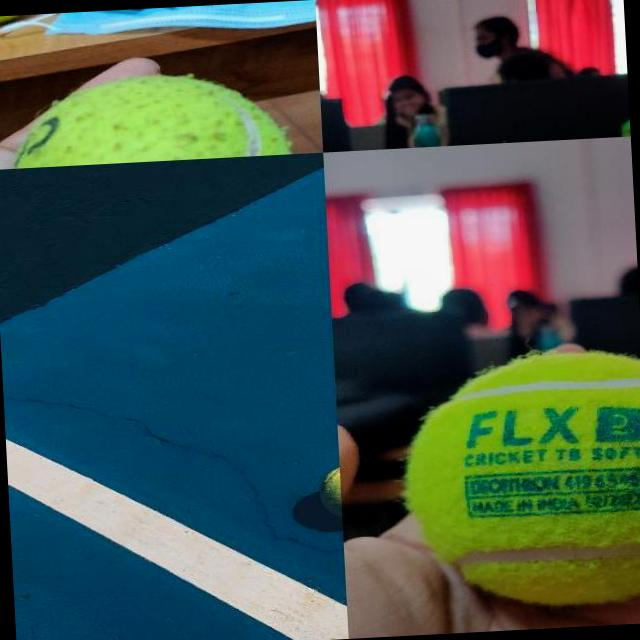Tennis Ball: (397, 349, 640, 612), (0, 68, 294, 168), (318, 463, 342, 523)
